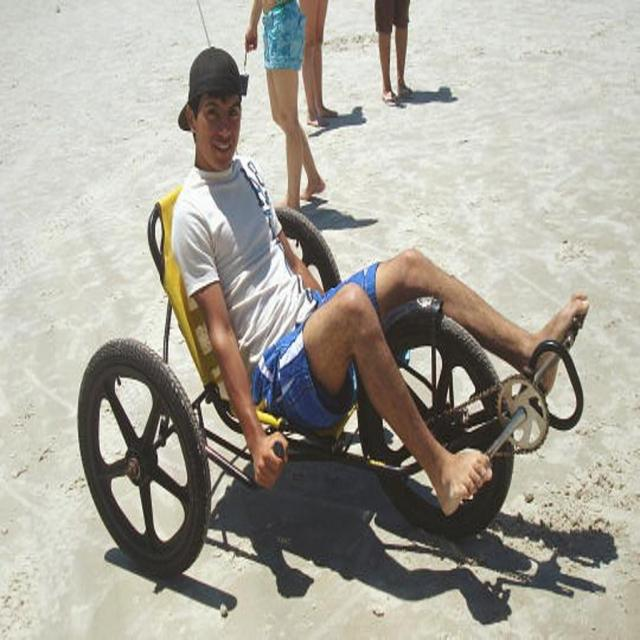nomask: (201, 83, 241, 162)
